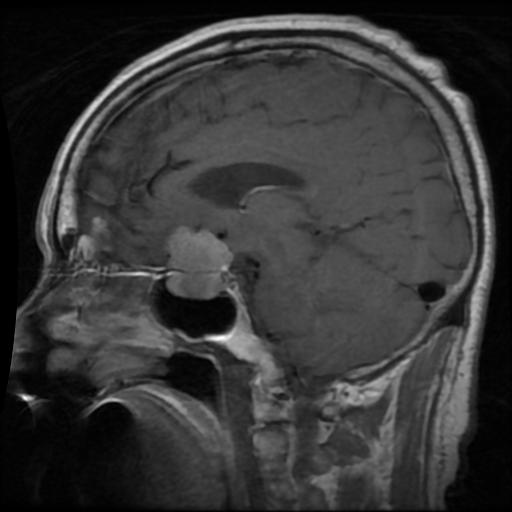Pituirity_tumour: (165, 227, 231, 298)
